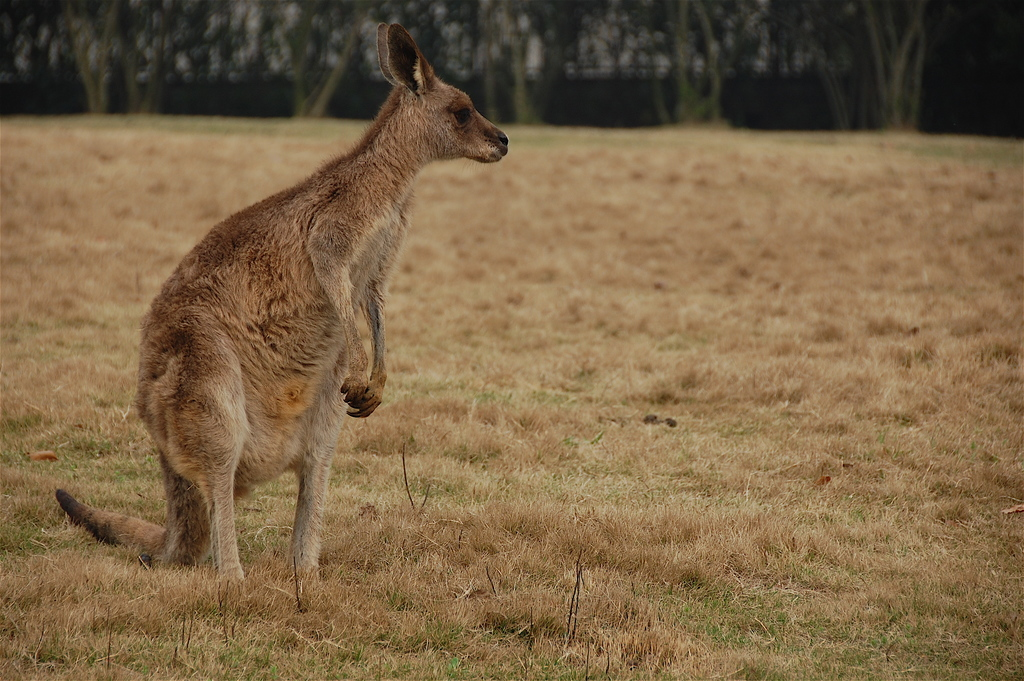kangaroo: (55, 20, 508, 589)
